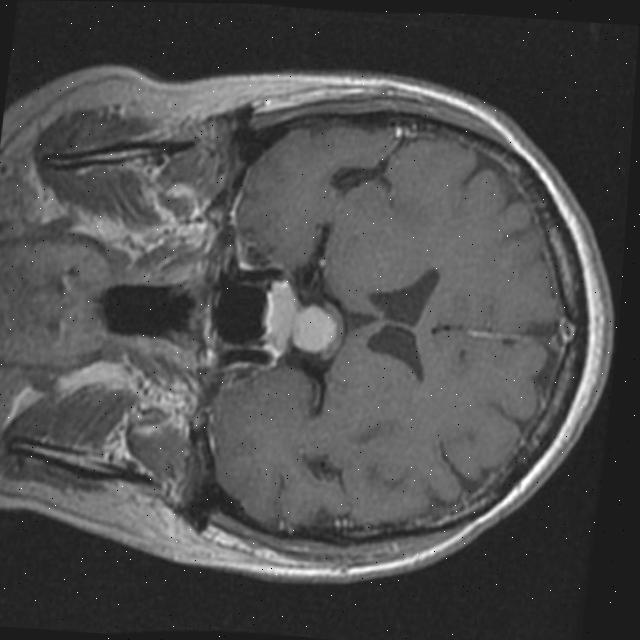Pituitary: (256, 278, 300, 363), (292, 302, 341, 355)
